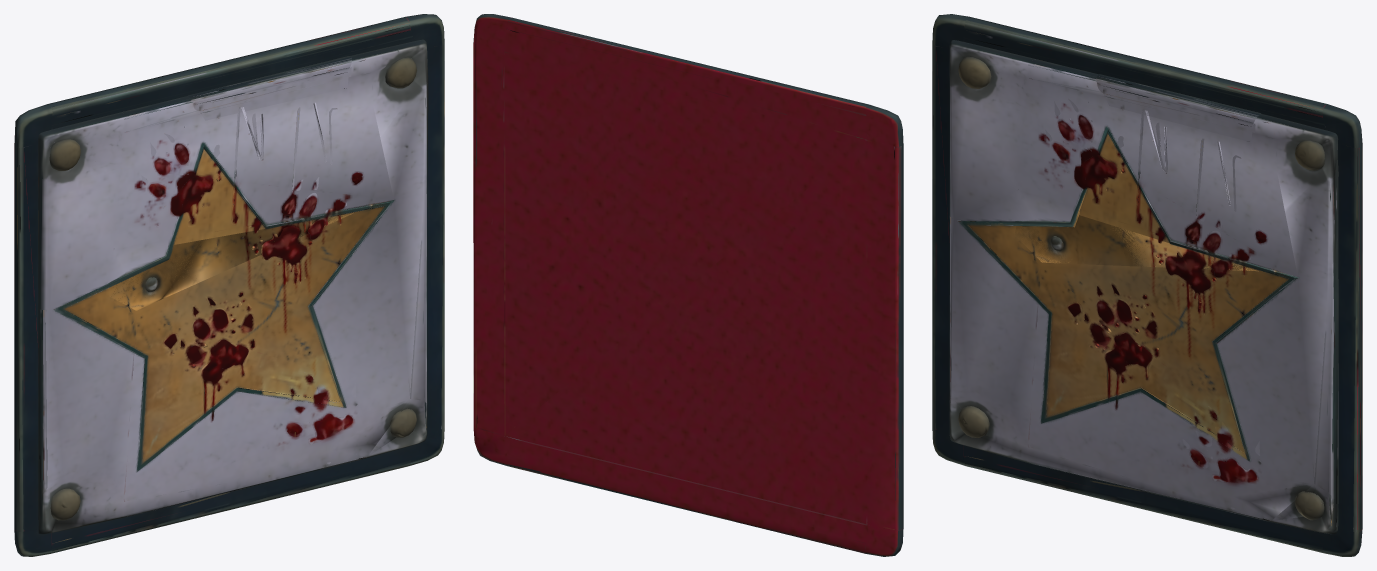
The model's file is PogoCouvercle.fbx.
3 renders of one model, left to right at view 1: azimuth 30°, elevation 25°; view 2: azimuth 150°, elevation 25°; view 3: azimuth 330°, elevation 25°, orthographic.
Visible parts, largest first — view 1: geometry_0; view 2: geometry_0; view 3: geometry_0.
Part boxes in pixels (x1,y1,x2,y2): geometry_0: [14, 14, 444, 556]; geometry_0: [473, 14, 903, 556]; geometry_0: [932, 14, 1362, 556].
Size of the model in its own units: 94.97 by 95.02 by 4.44.
Materials: 1 (1 with a texture image).
